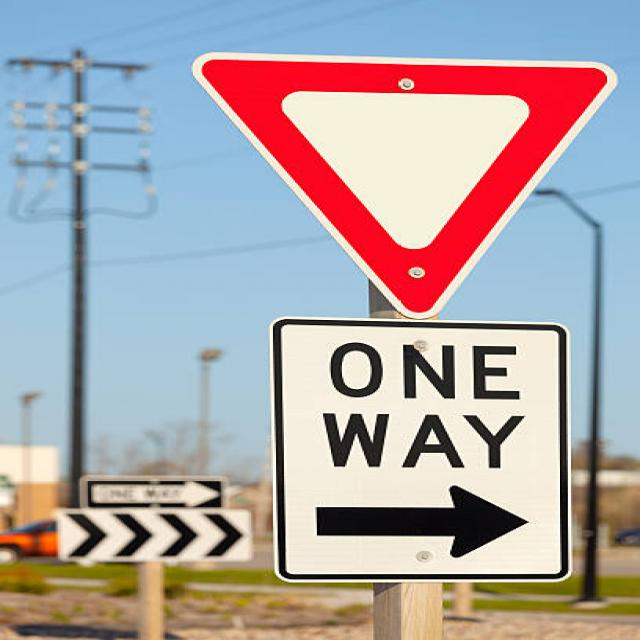give_way: (182, 43, 640, 320)
